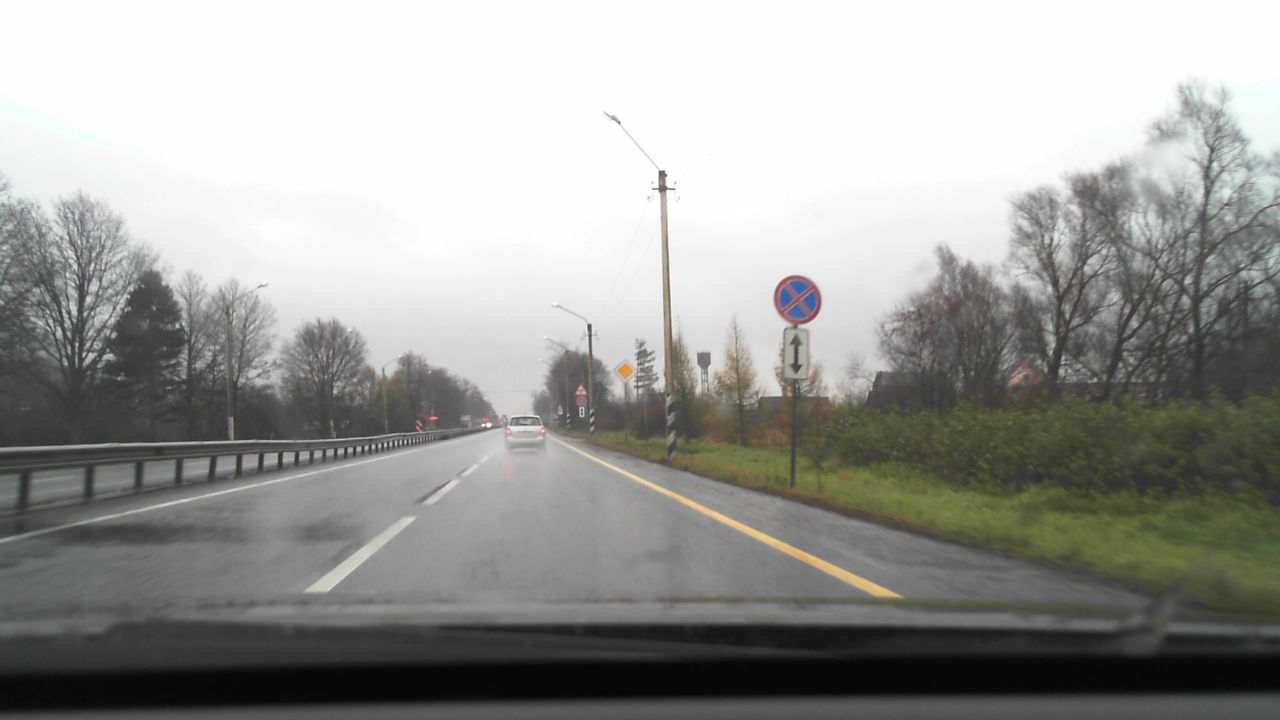No Parking: (773, 275, 821, 323)
